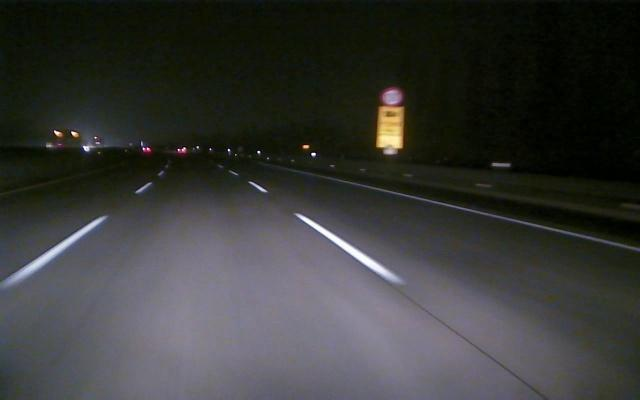lane: (324, 176, 639, 251), (3, 181, 151, 291), (253, 182, 406, 286)
